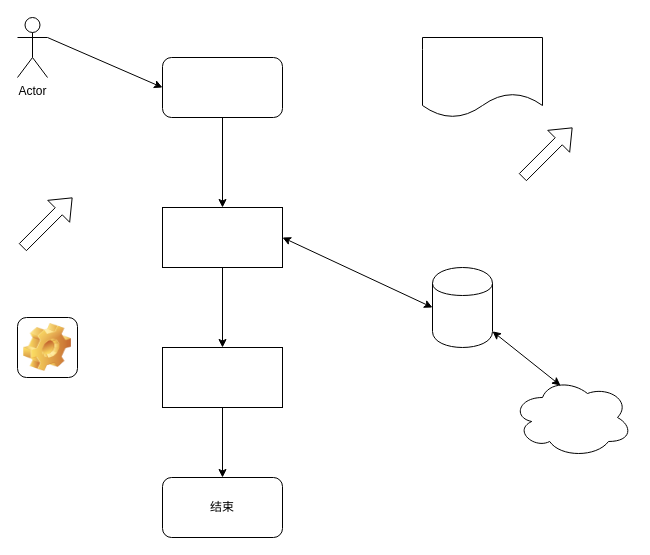
This 650x555 diagram has some shape labels left out. Here are the shapes that lost their labels. From the top down, the box of each, then its label:
(162, 56, 282, 118): 开始
(16, 316, 78, 378): Icon
